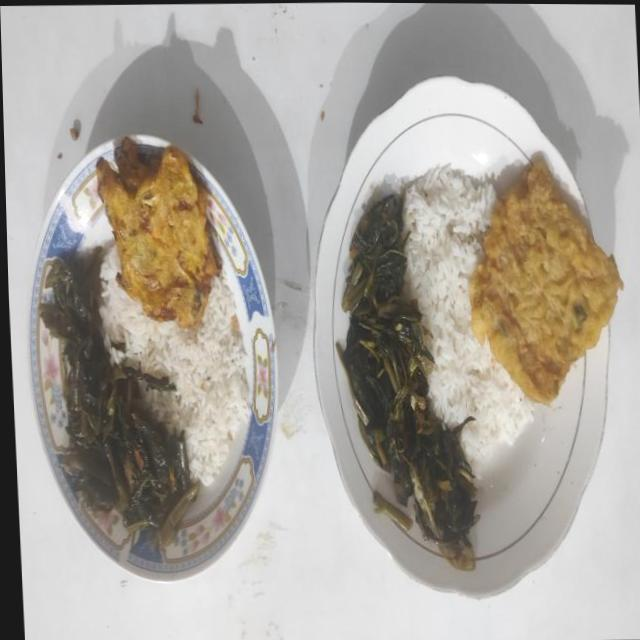nasi_putih: (402, 164, 534, 478), (100, 245, 250, 485)
tumis_kangkung: (336, 194, 480, 570), (38, 246, 198, 547)
